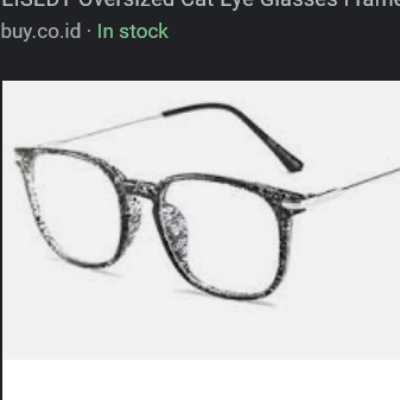glasses: (14, 99, 400, 302)
